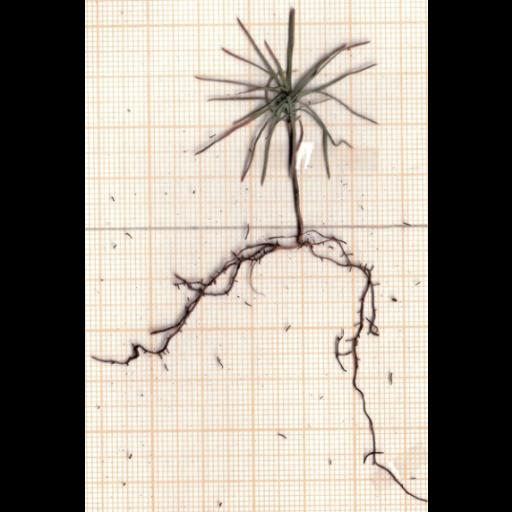flowerCedr: (195, 10, 376, 181)
rootCedr: (93, 232, 377, 449)
stemCedr: (288, 122, 304, 242)
